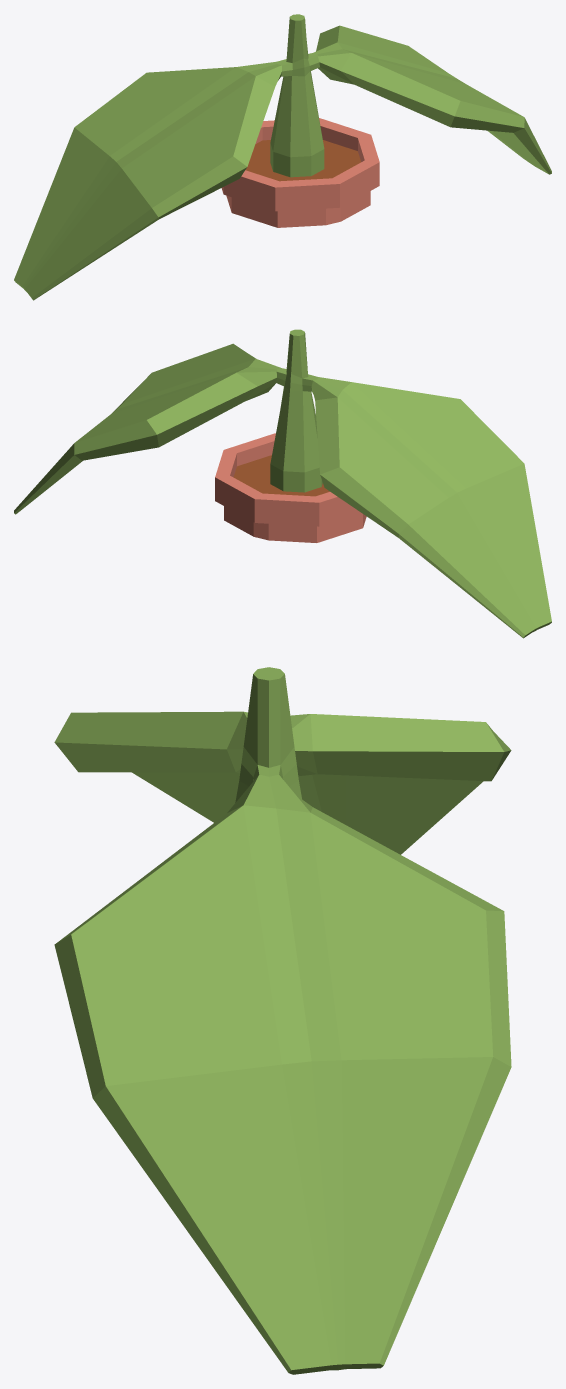
The model's file is Hat_Plant_Potfbx.fbx.
3 views of the same model, one above another, from view 1: azimuth 30°, elevation 25°; view 2: azimuth 150°, elevation 25°; view 3: azimuth 270°, elevation 25° (orthographic). The views are drawn at different scales.
Parts seen in each view (by area): view 1: SproutWPot; view 2: SproutWPot; view 3: SproutWPot.
Part boxes in pixels (x1,y1,x2,y2): SproutWPot: (14, 14, 551, 300); SproutWPot: (14, 329, 551, 638); SproutWPot: (54, 667, 511, 1374).
Size of the model in its own units: 124 by 50.98 by 47.02.
